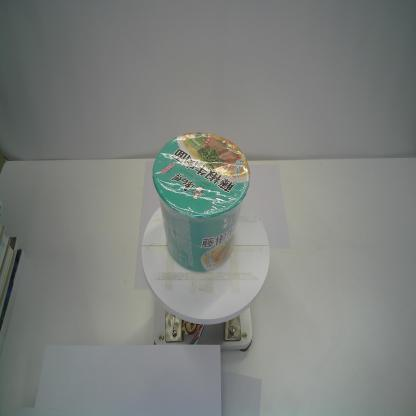Instant Noodles: (152, 130, 252, 273)
